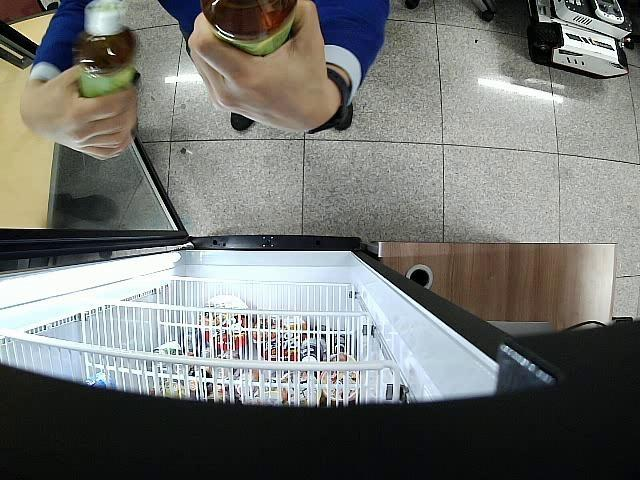19_17cha: (78, 3, 140, 98), (197, 0, 302, 52)
